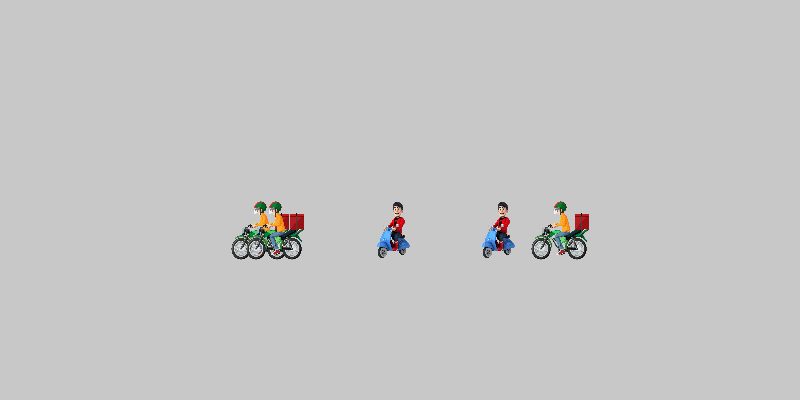helmet: (230, 200, 290, 260), (245, 200, 305, 260), (530, 200, 590, 260)
no_helmet: (365, 200, 425, 260), (470, 200, 530, 260)
